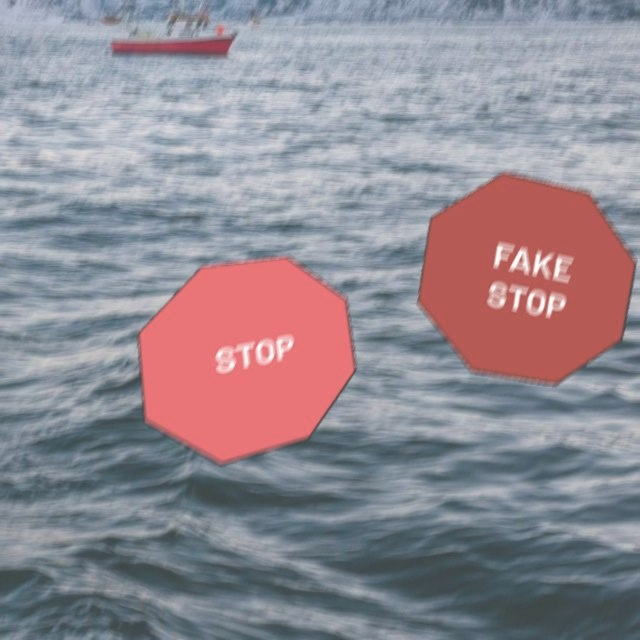FAKE_STOP: (417, 170, 637, 384)
STOP: (137, 254, 357, 464)
